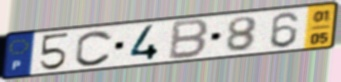4: (127, 23, 161, 62)
5: (38, 31, 72, 72)
6: (268, 9, 301, 50)
8: (223, 15, 260, 53)
B: (166, 17, 211, 61)
C: (73, 29, 115, 68)
